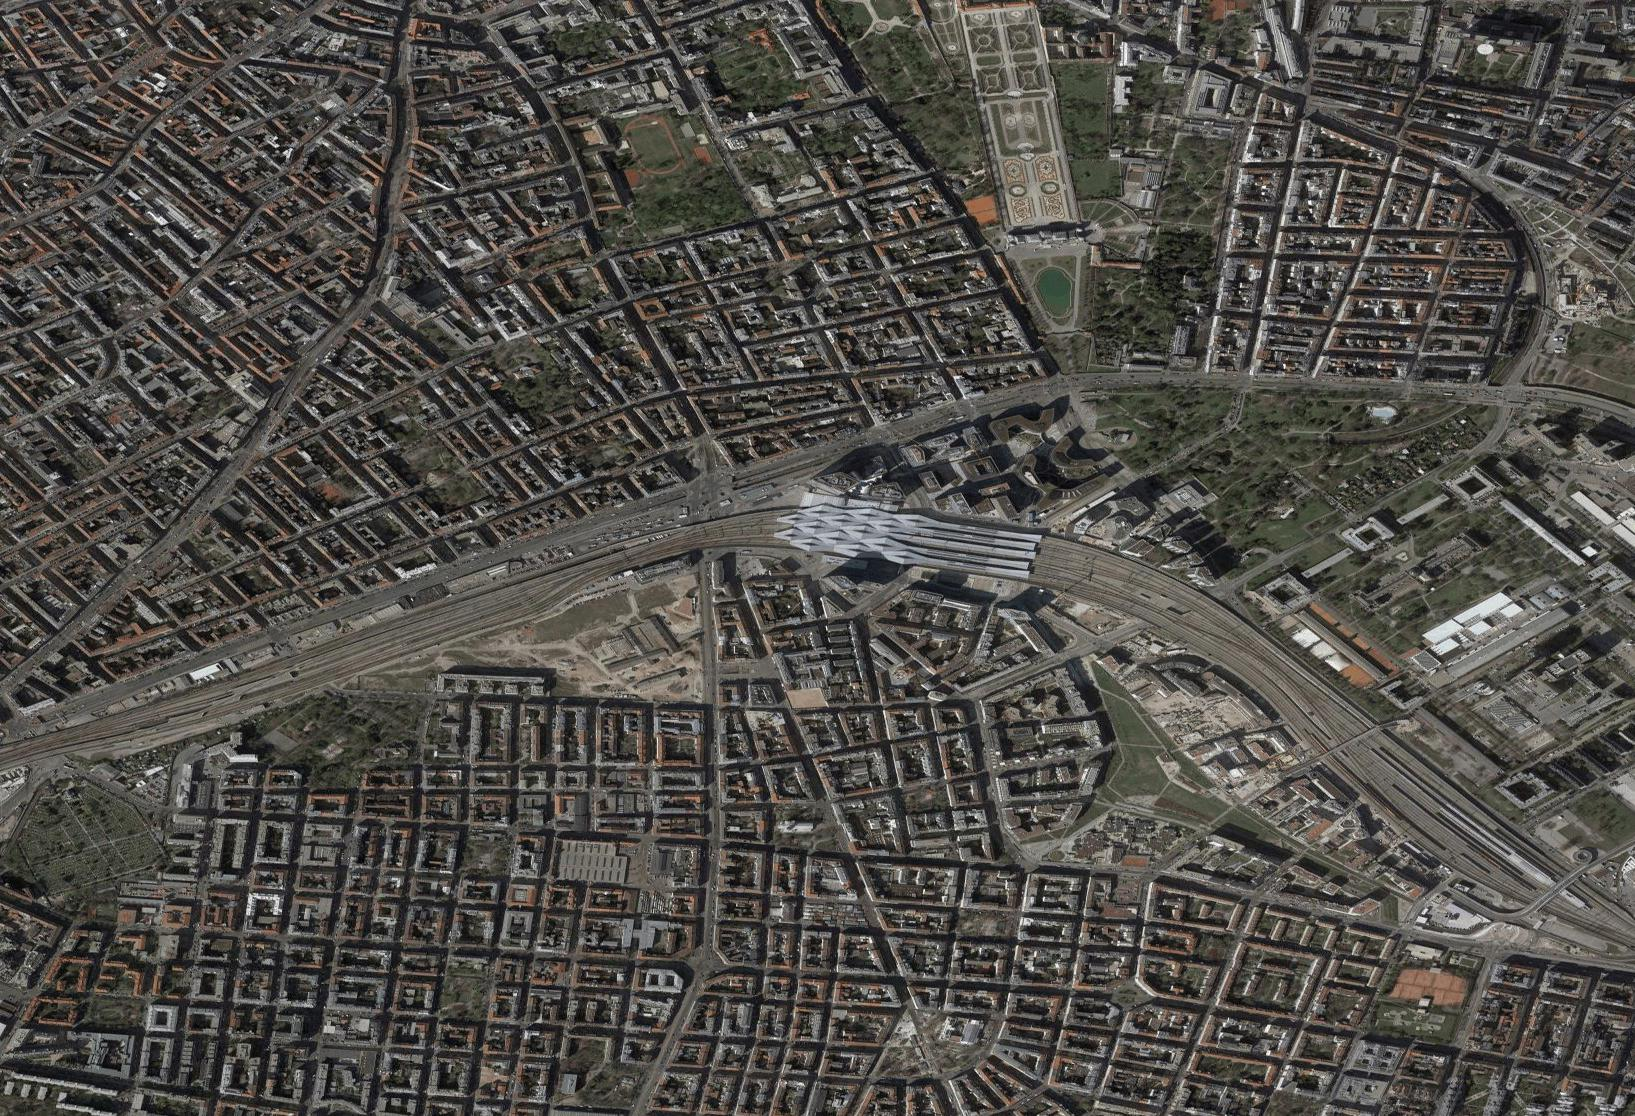train_station: (772, 482, 1055, 623)
